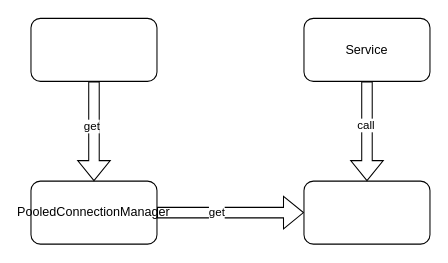
Image size: 448x263. Some labels were removed from this diagram. The shapes that lost their labels are listed below. From the top down, each one's box as (x1, y1, x2, y2) in pixels, then its label:
(30, 17, 157, 81): ConnectionPool
(303, 180, 430, 244): DAO
